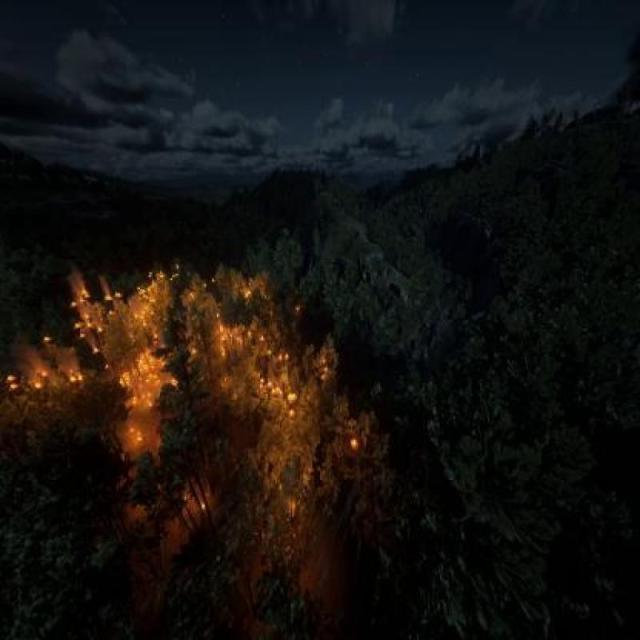Fire: (28, 250, 382, 572)
